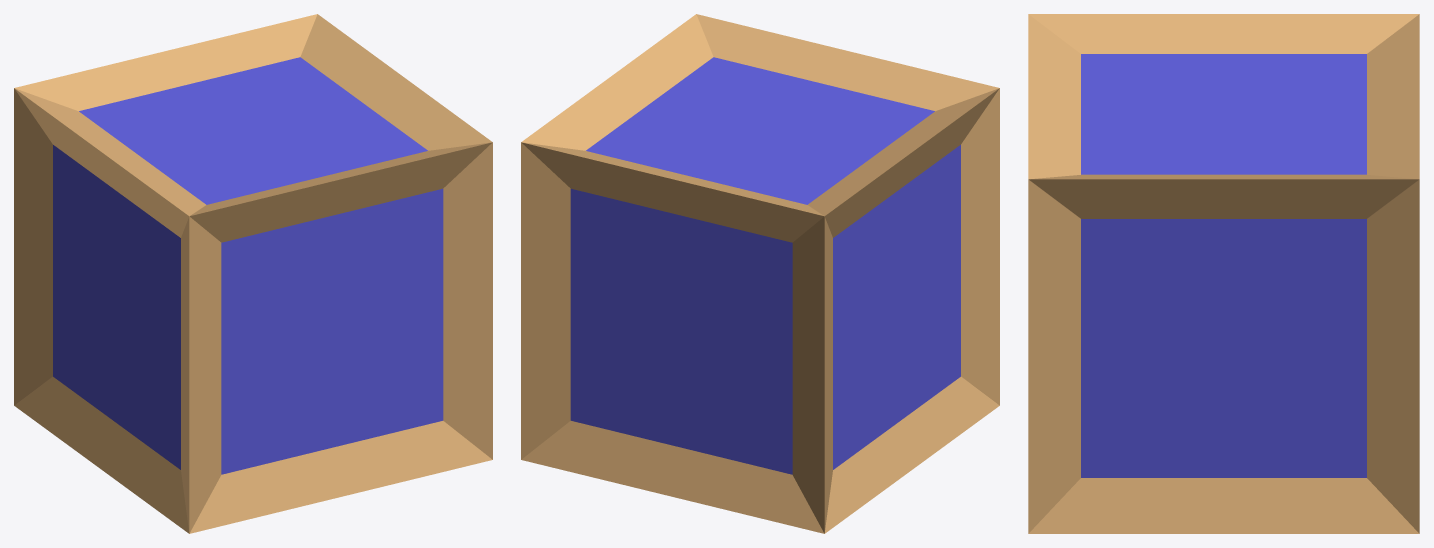
3 renders of one model, left to right at view 1: azimuth 30°, elevation 25°; view 2: azimuth 150°, elevation 25°; view 3: azimuth 270°, elevation 25°, orthographic. The views are drawn at different scales.
Parts seen in each view (by area): view 1: Cube; view 2: Cube; view 3: Cube.
Part boxes in pixels (left/top/right/bottom): Cube: left=14, top=14, right=492, bottom=533; Cube: left=521, top=14, right=999, bottom=533; Cube: left=1028, top=14, right=1419, bottom=533.
Bounding box in the file's own units: 1000 × 1000 × 1000.
